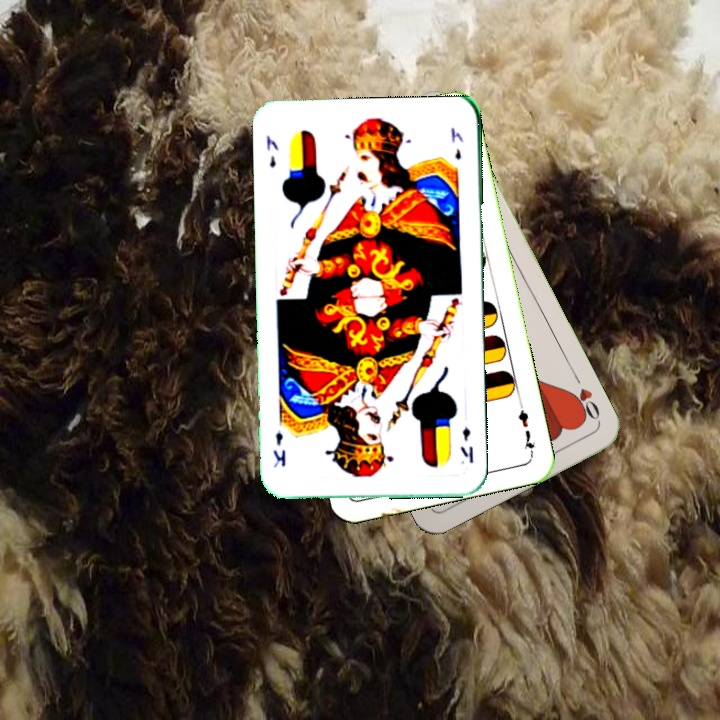E7: (514, 399, 539, 458)
EK: (456, 424, 476, 466), (262, 131, 281, 170)
HO: (565, 369, 603, 424)
